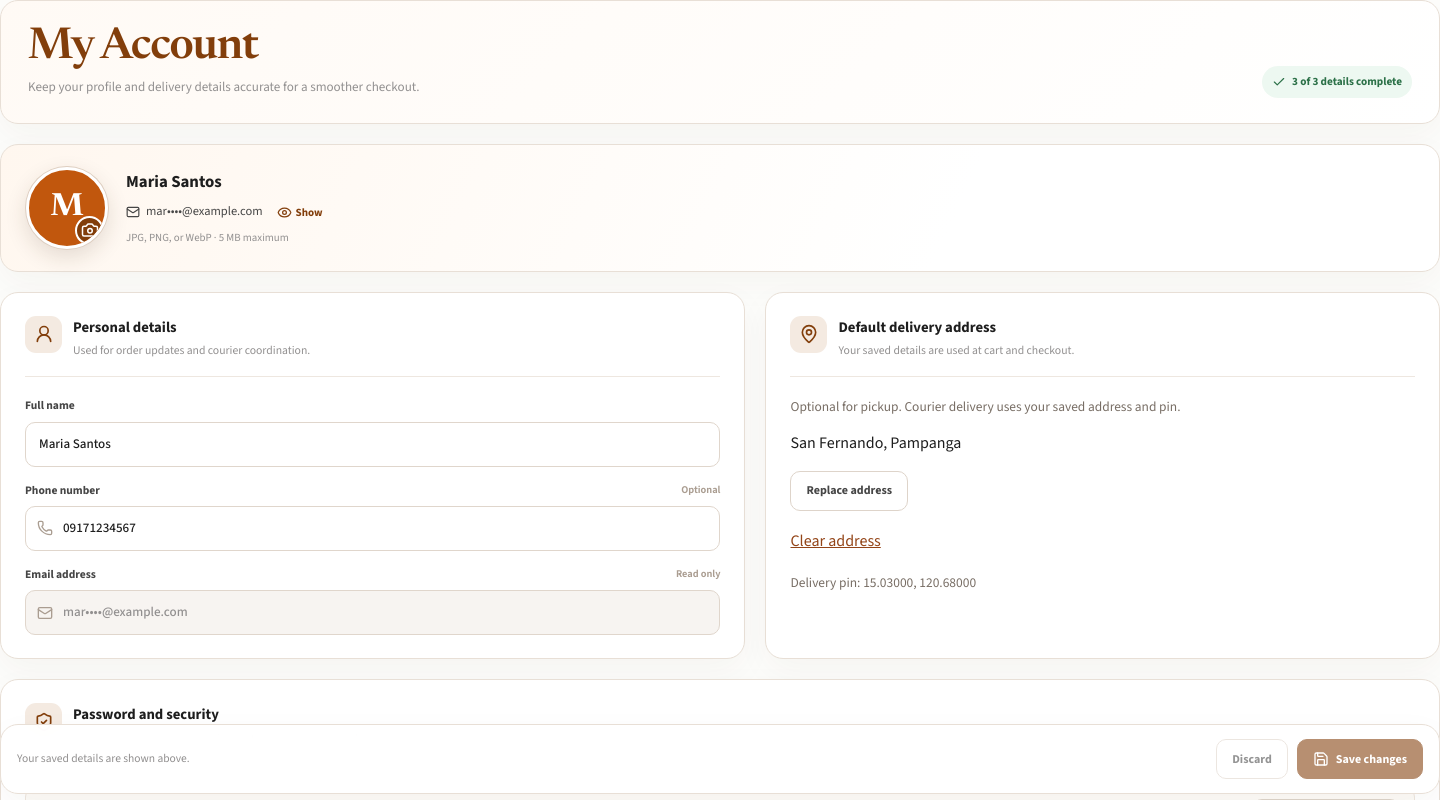
Test: AccountPanel › masks email by default and enables saving only after a change
Check: the field labelled "Email address Read only" does not hold "maria@example.com", box 25,590 -> 720,635
Check: the button "Save changes" is disabled, box 1297,739 -> 1423,779
Click the button "Show".
click(300, 212)  # box 273,202 -> 327,223
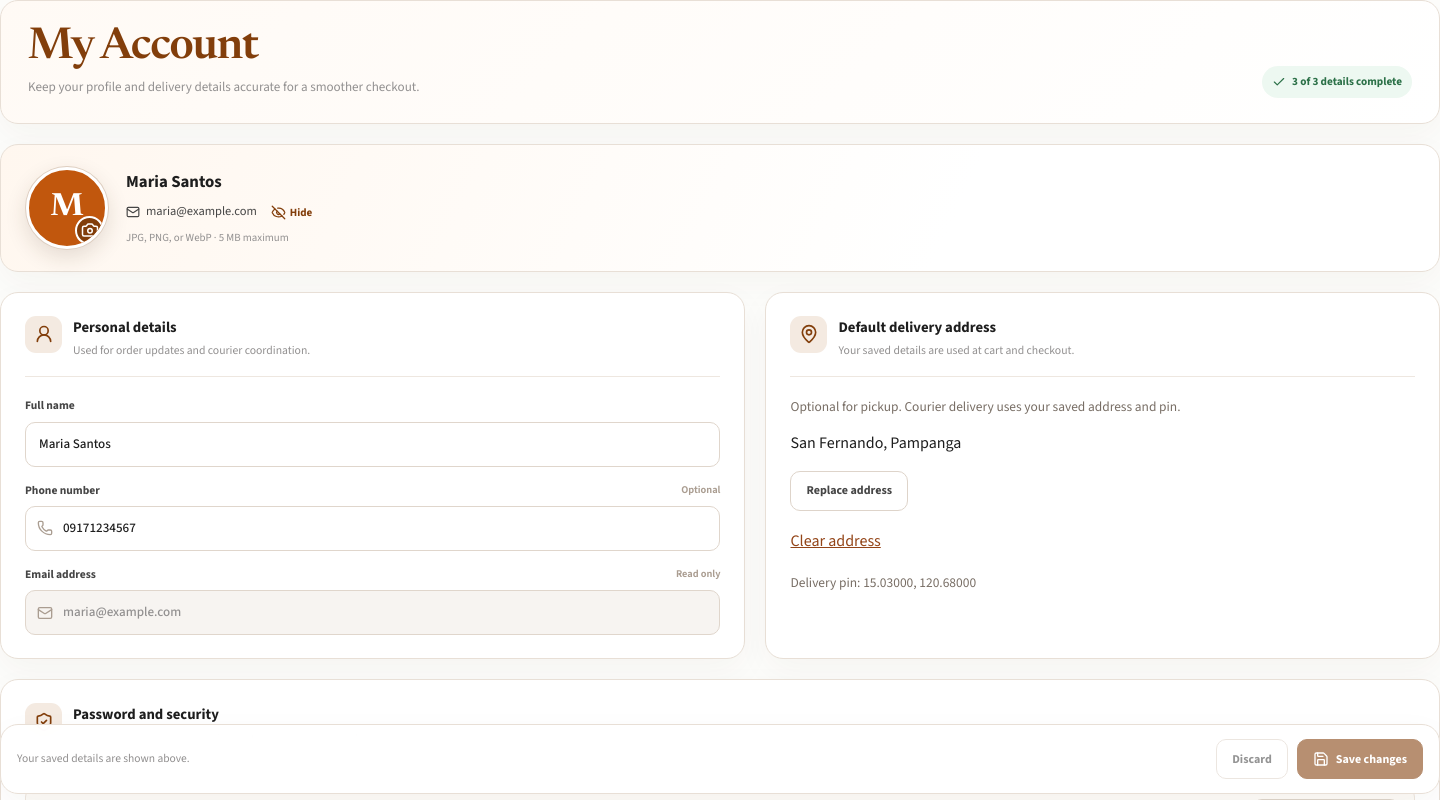
Check: the field labelled "Email address Read only" holds "maria@example.com", box 25,590 -> 720,635
Replace the text in the field labelled "Full name" with "Maria Cruz" at (373, 444), box 25,422 -> 720,467
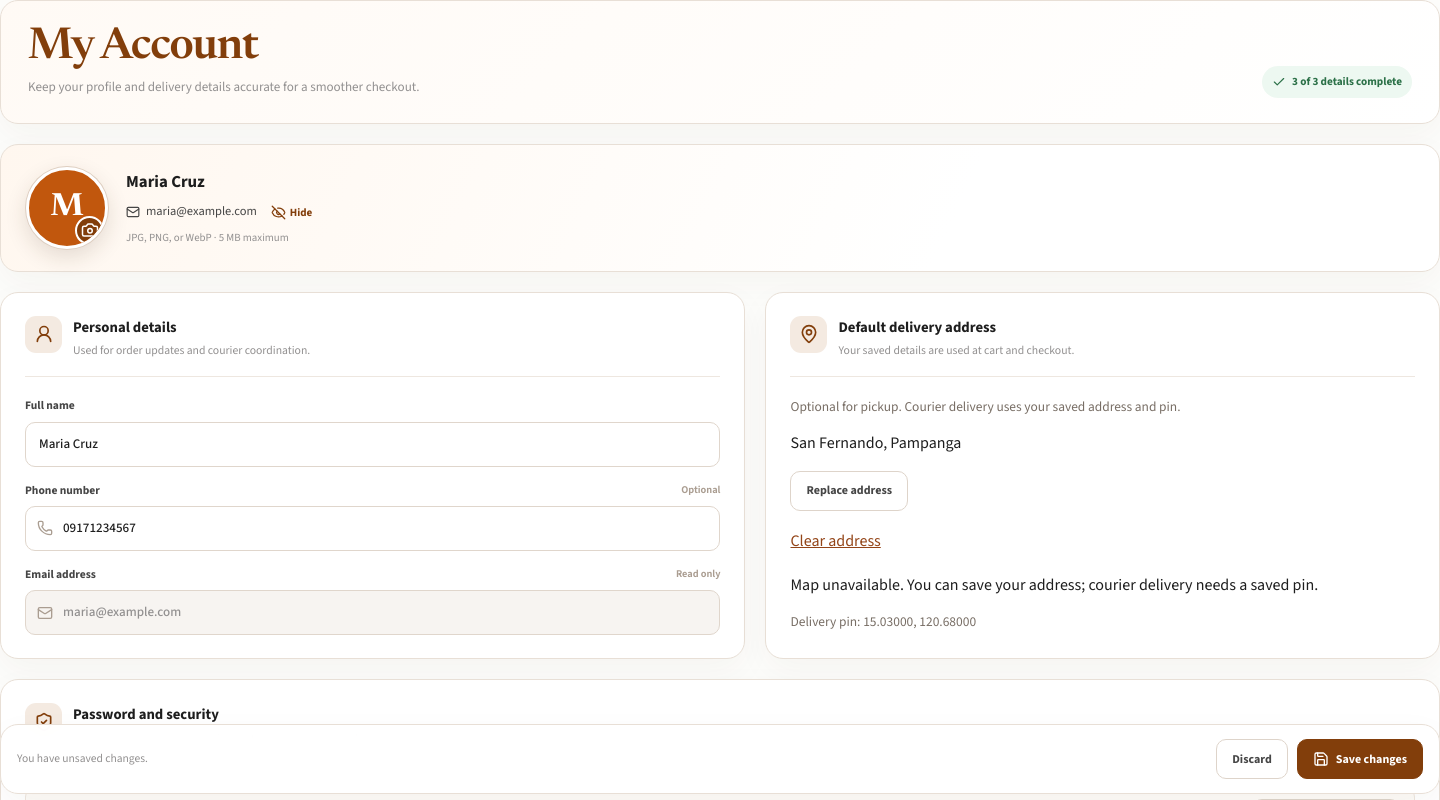
Check: the button "Save changes" is enabled, box 1297,739 -> 1423,779
